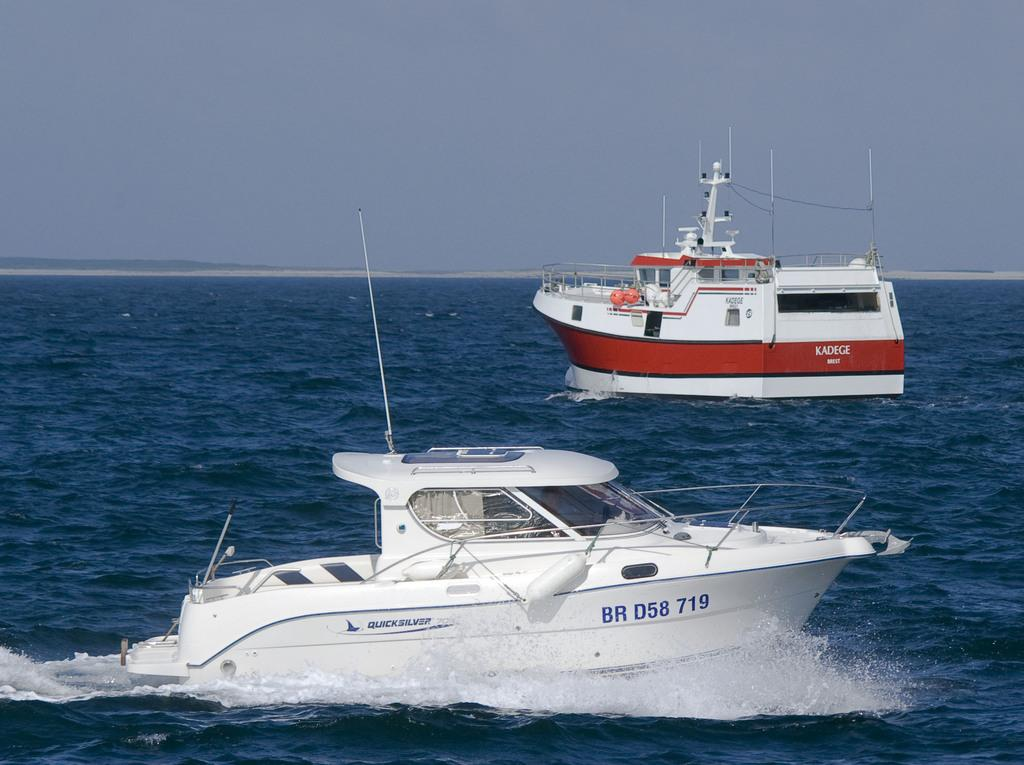PassengerShip: (516, 130, 910, 422)
